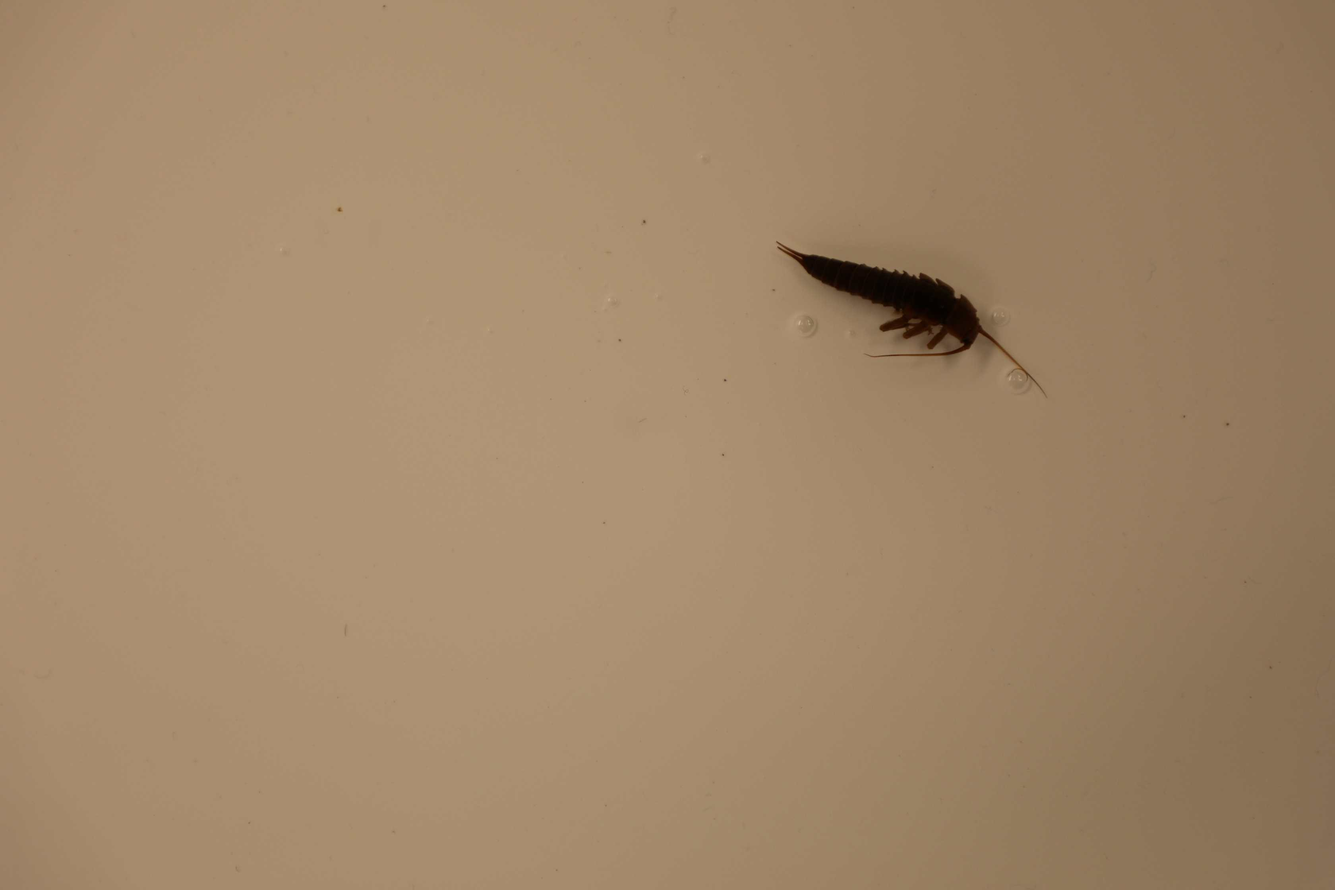Stonefly: (771, 238, 1050, 401)
